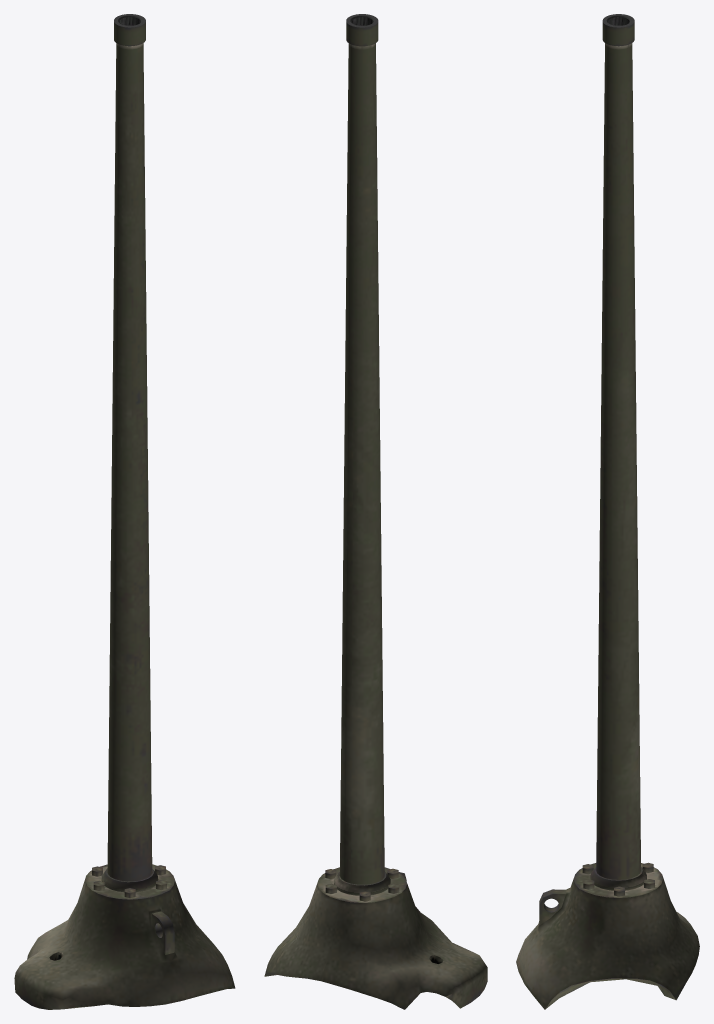
The model's file is Gun_03.glb.
3 renders of one model, left to right at view 1: azimuth 30°, elevation 25°; view 2: azimuth 150°, elevation 25°; view 3: azimuth 270°, elevation 25°, orthographic.
Parts seen in each view (by area): view 1: set_0_group_0; view 2: set_0_group_0; view 3: set_0_group_0.
Boxes of the visible parts, left/top/right/bottom form: set_0_group_0: left=14, top=14, right=235, bottom=1009; set_0_group_0: left=264, top=14, right=487, bottom=1009; set_0_group_0: left=516, top=14, right=699, bottom=1009.
Size of the model in its own units: 0.7907 by 4.09 by 0.7137.
Materials: 1 (1 with a texture image).
